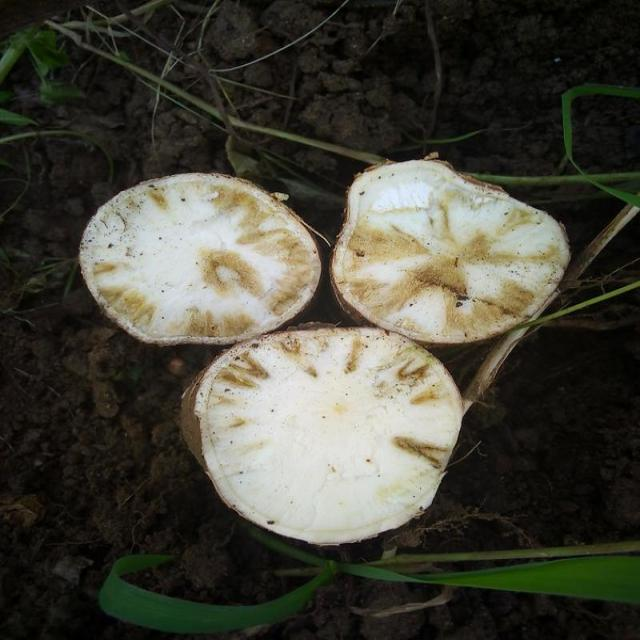cassava leaf: (180, 321, 466, 546), (329, 154, 572, 346), (80, 170, 322, 346)
